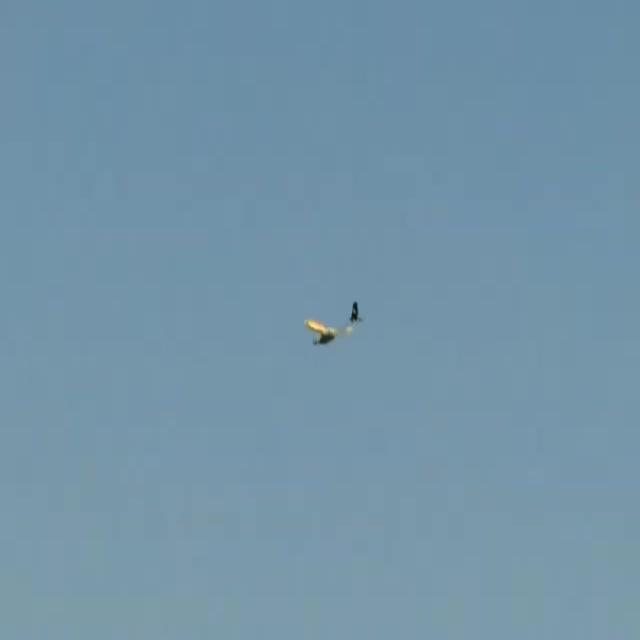iha: (304, 298, 364, 350)
